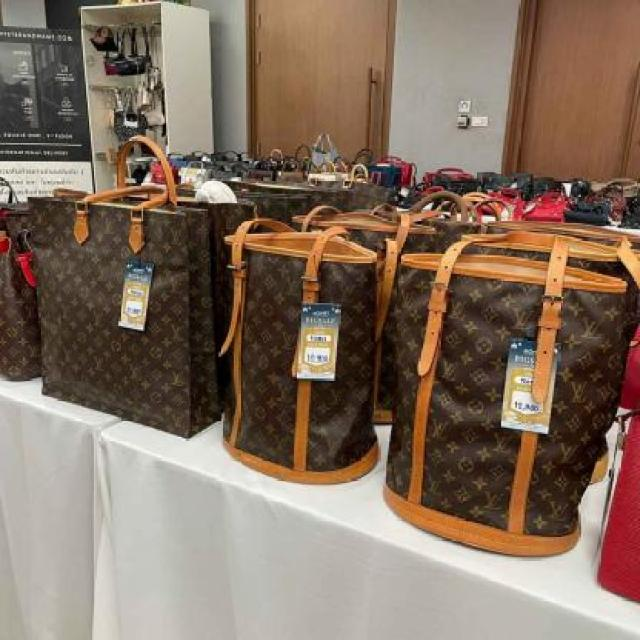Bag: (387, 196, 639, 582), (15, 125, 262, 448), (203, 164, 405, 510)
